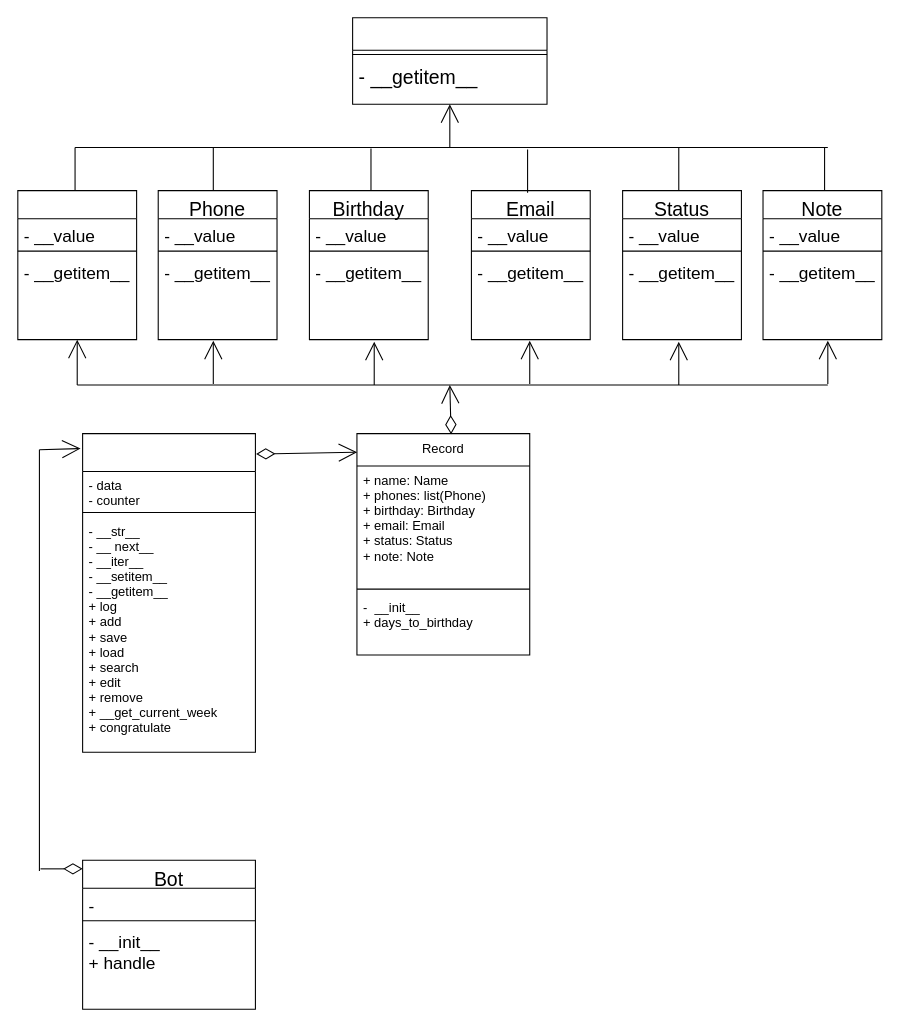
Image size: 900x1027. Some labels were removed from this diagram. The shapes that lost their labels are listed below. From the top down, each one's box as (x1, y1, x2, y2) in pixels, then its label:
(352, 17, 547, 104): Field
(17, 190, 137, 340): Name
(82, 433, 255, 752): AddressBook
